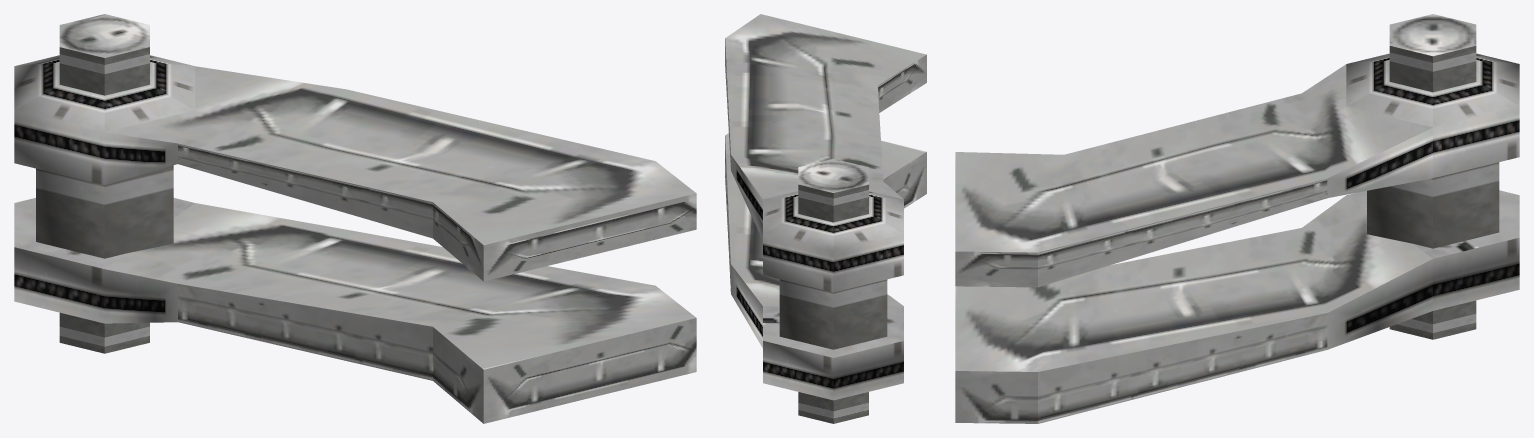
File: PWArmL3.obj
The picture shows the model from 3 angles, left to right: view 1: azimuth 30°, elevation 25°; view 2: azimuth 150°, elevation 25°; view 3: azimuth 270°, elevation 25°; orthographic projection. The views are drawn at different scales.
Parts seen in each view (by area): view 1: L_30; view 2: L_30; view 3: L_30.
Part boxes in pixels (bbox=[...]): L_30: bbox=[14, 14, 696, 423]; L_30: bbox=[725, 14, 926, 423]; L_30: bbox=[955, 14, 1519, 423].
Size of the model in its own units: 22.58 by 14.65 by 26.45.
Materials: 1 (1 with a texture image).
